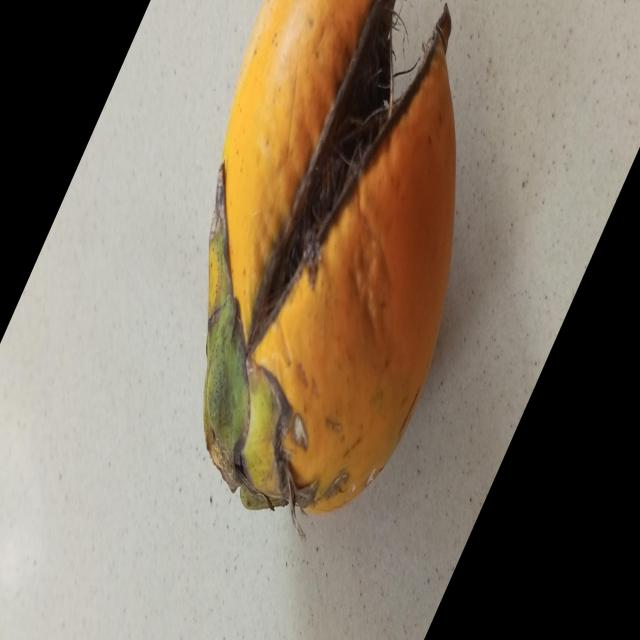damaged: (203, 0, 456, 534)
